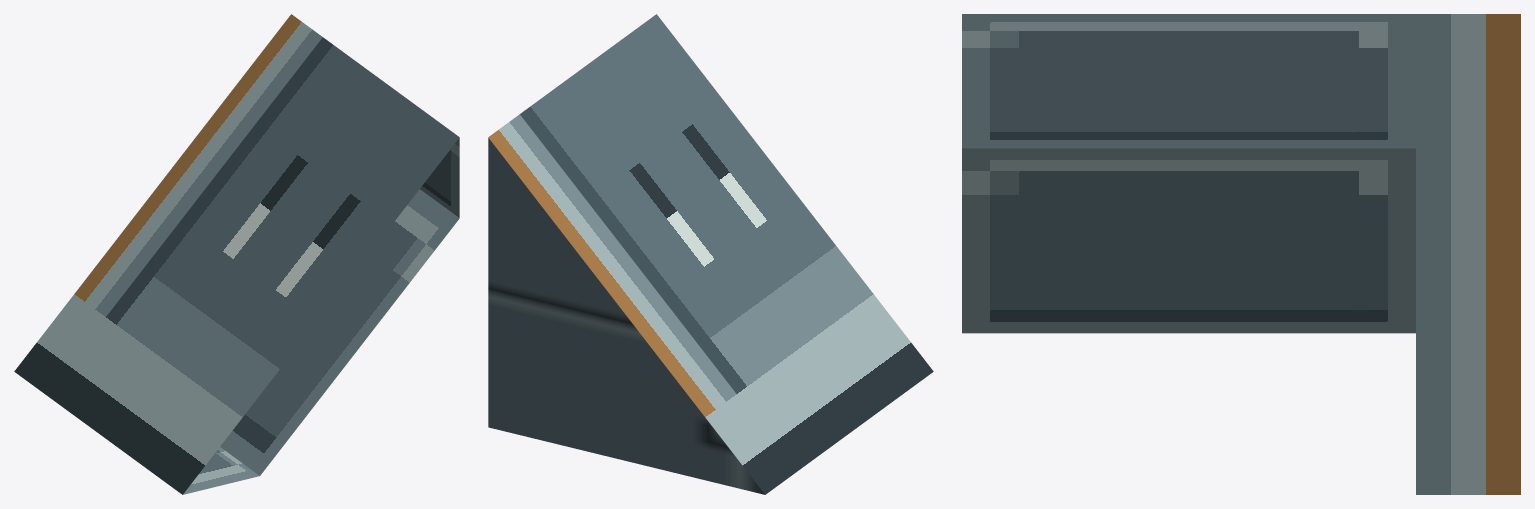
The model's file is casing_d7_front_x-3_y2.obj.
3 views of the same model, side by side, from view 1: azimuth 30°, elevation 25°; view 2: azimuth 150°, elevation 25°; view 3: azimuth 270°, elevation 25° (orthographic). The views are drawn at different scales.
Visible parts, largest first — view 1: d7_front_x-3_y2; view 2: d7_front_x-3_y2; view 3: d7_front_x-3_y2.
Boxes of the visible parts, x1=… form: d7_front_x-3_y2: x1=14, y1=14, x2=459, y2=494; d7_front_x-3_y2: x1=488, y1=14, x2=933, y2=494; d7_front_x-3_y2: x1=962, y1=14, x2=1520, y2=494.
Size of the model in its own units: 0.9497 by 0.9497 by 1.
